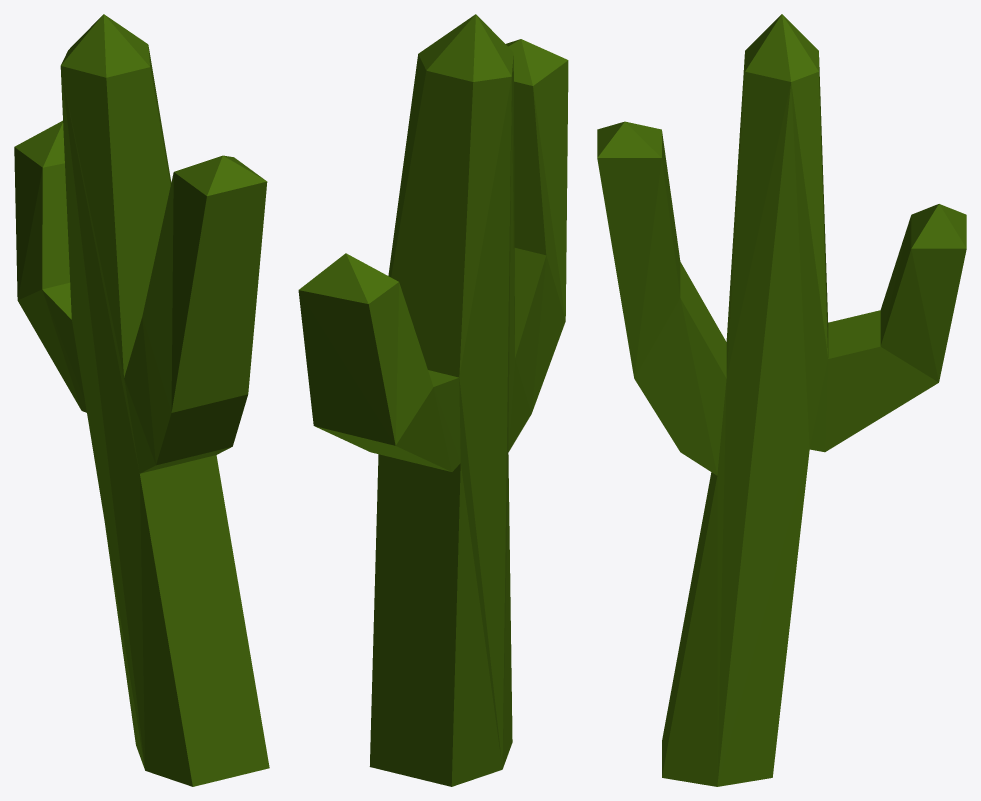
Rendered from obj_cactus_3_0.obj.
3 views of the same model, side by side, from view 1: azimuth 30°, elevation 25°; view 2: azimuth 150°, elevation 25°; view 3: azimuth 270°, elevation 25° (orthographic). The views are drawn at different scales.
Size of the model in its own units: 0.4609 by 2 by 0.9375.
